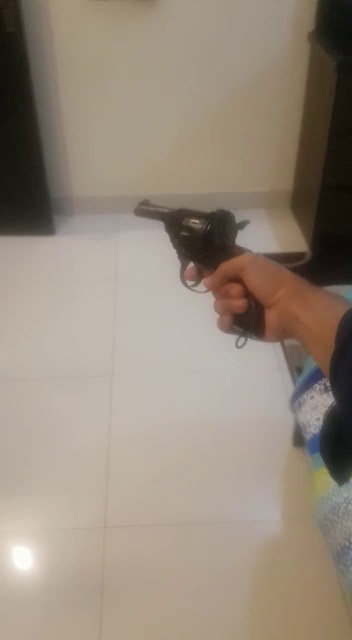handgun: (117, 183, 290, 401)
